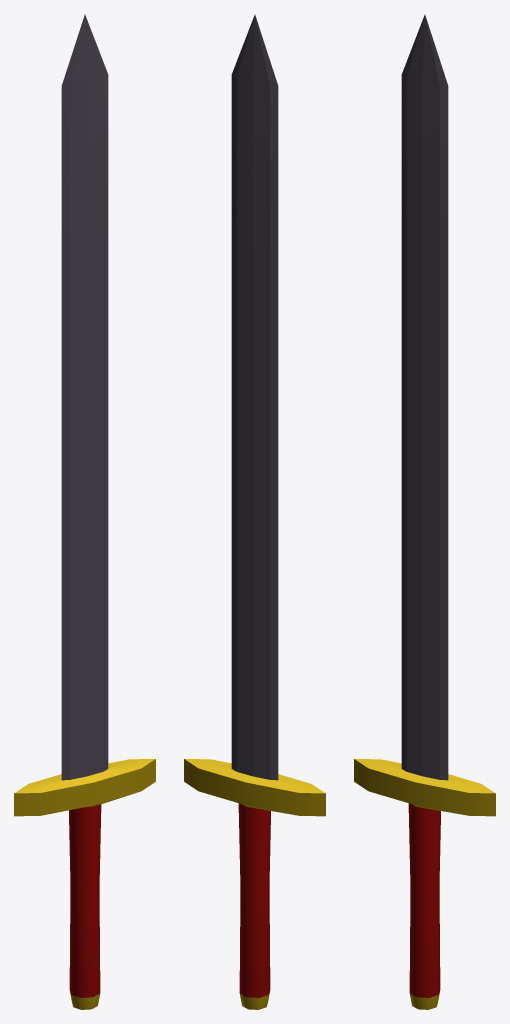
The model's file is Sword.fbx.
3 renders of one model, left to right at view 1: azimuth 30°, elevation 25°; view 2: azimuth 150°, elevation 25°; view 3: azimuth 330°, elevation 25°, orthographic.
Parts seen in each view (by area): view 1: VillagerSword; view 2: VillagerSword; view 3: VillagerSword.
Part boxes in pixels (x1,y1,x2,y2): VillagerSword: [14, 14, 155, 1009]; VillagerSword: [184, 14, 325, 1009]; VillagerSword: [354, 14, 495, 1009].
Size of the model in its own units: 14.26 by 95.1 by 3.05.
